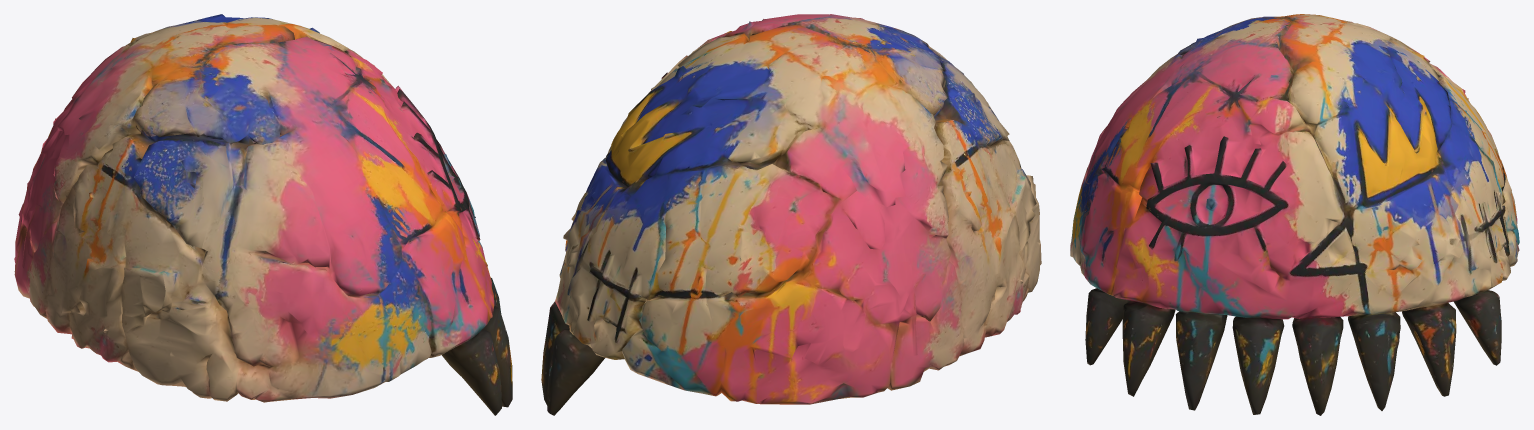
File: statue2_lid.glb
3 views of the same model, side by side, from view 1: azimuth 30°, elevation 25°; view 2: azimuth 150°, elevation 25°; view 3: azimuth 270°, elevation 25° (orthographic). The views are drawn at different scales.
Parts seen in each view (by area): view 1: statue2_lid; view 2: statue2_lid; view 3: statue2_lid.
Boxes of the visible parts, x1,y1,x2,y2 form: statue2_lid: (14, 14, 512, 415); statue2_lid: (541, 14, 1041, 415); statue2_lid: (1070, 14, 1519, 415).
Size of the model in its own units: 0.9264 by 0.7842 by 1.07.
Materials: 1 (1 with a texture image).
